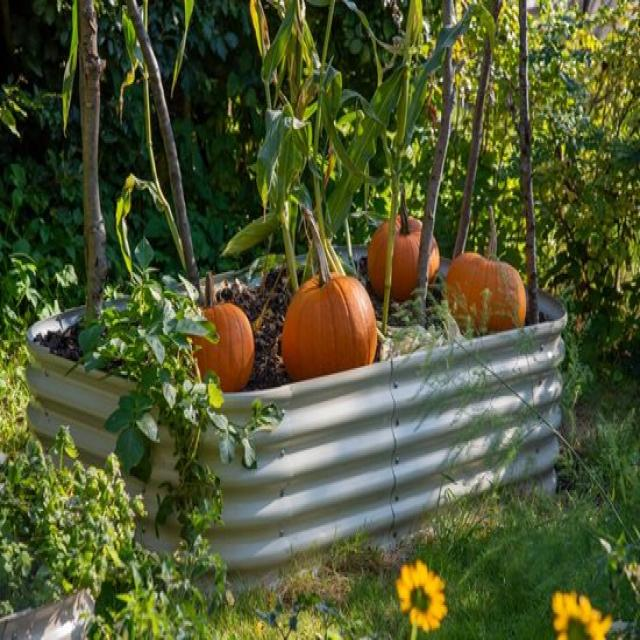pumpkin: (281, 204, 377, 380), (446, 206, 526, 333), (193, 303, 254, 392), (390, 210, 423, 301), (367, 221, 388, 296), (429, 238, 440, 282)
